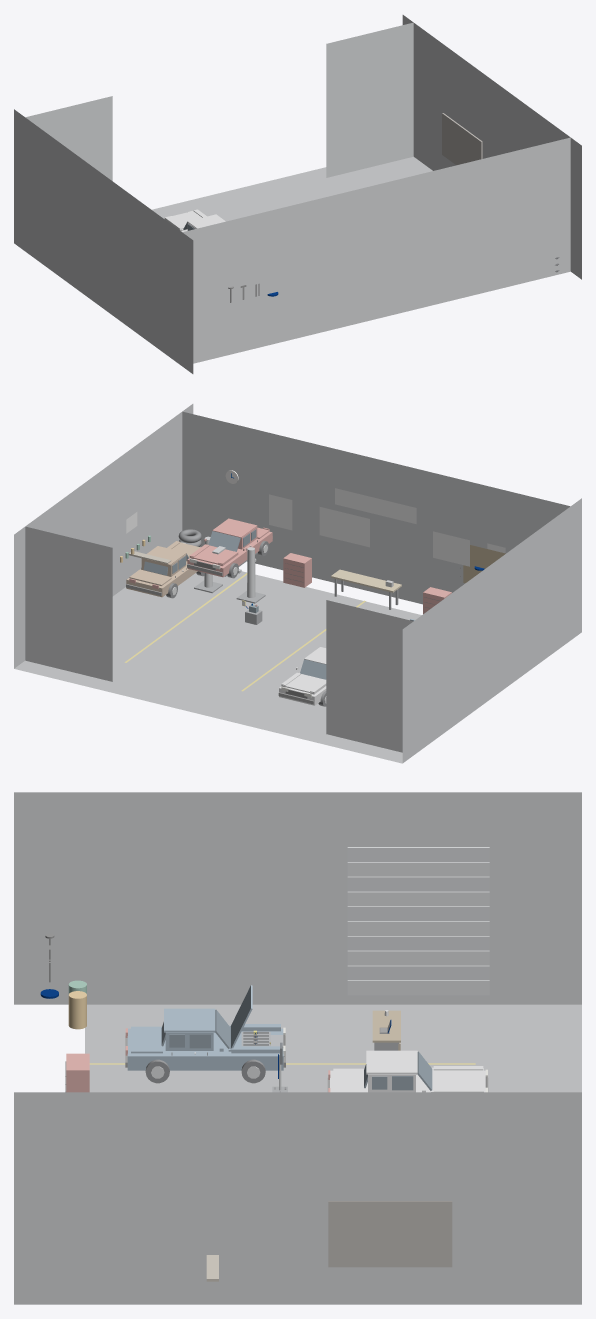
3 renders of one model, top to bottom at view 1: azimuth 30°, elevation 25°; view 2: azimuth 150°, elevation 25°; view 3: azimuth 270°, elevation 25°, orthographic. The views are drawn at different scales.
Parts seen in each view (by area): view 1: object 5, object 6, object 7, object 9, object 1, object 8, object 82; view 2: object 5, object 1, object 6, object 7, object 9, object 8, object 70, object 10, car_4 (×2), object 65, tool_cabinet_2, object 11 (+3 smaller); view 3: object 7, object 6, object 1, object 82, car (×3), object 71, object 73, object 76, object 78, object 72, object 77, object 74 (+8 smaller).
Boxes of the visible parts, x1,y1,x2,y2 form: object 5: [182, 137, 570, 363]; object 6: [14, 109, 193, 373]; object 7: [402, 15, 581, 279]; object 9: [326, 22, 413, 177]; object 1: [152, 156, 432, 221]; object 8: [25, 96, 112, 180]; object 82: [442, 113, 482, 165]; object 5: [182, 411, 570, 604]; object 1: [14, 571, 421, 763]; object 6: [402, 498, 581, 762]; object 7: [14, 404, 193, 668]; object 9: [25, 526, 112, 681]; object 8: [326, 600, 413, 752]; object 70: [319, 507, 369, 547]; object 10: [335, 488, 416, 523]; car_4 (×2): [187, 518, 272, 577]; object 65: [433, 531, 469, 566]; tool_cabinet_2: [283, 553, 311, 587]; object 11: [463, 545, 505, 583]; object 7: [14, 1092, 581, 1304]; object 6: [14, 792, 581, 1004]; object 1: [85, 1004, 581, 1092]; object 82: [328, 1201, 452, 1267]; car (×3): [127, 1008, 283, 1070]; object 71: [347, 980, 489, 995]; object 73: [347, 950, 489, 965]; object 76: [347, 906, 489, 921]; object 78: [347, 876, 489, 891]; object 72: [347, 965, 489, 980]; object 77: [347, 891, 489, 906]; object 74: [347, 936, 489, 950].
Size of the model in its own units: 21.6 by 6.6 by 16.
